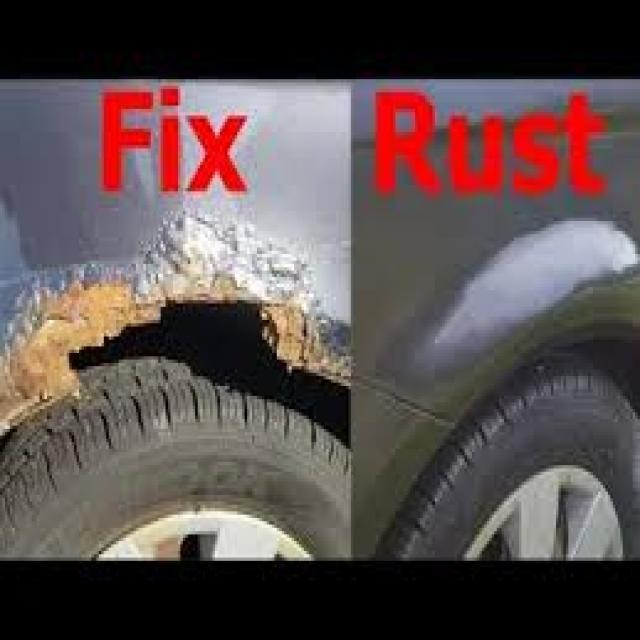dent-or-scratch: (0, 228, 331, 382)
